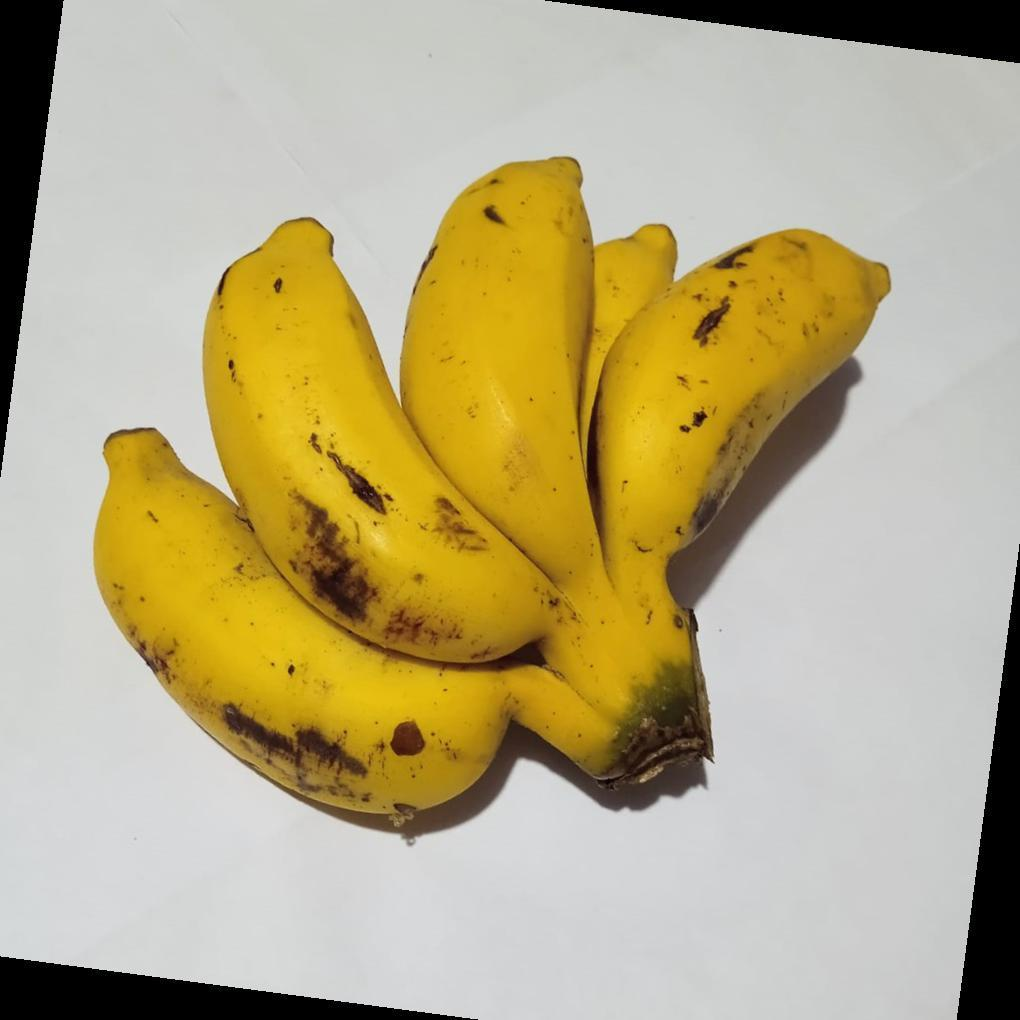Banana Ripe: (91, 137, 892, 844), (76, 396, 583, 884), (201, 194, 575, 710), (603, 196, 897, 696), (396, 121, 633, 607)
